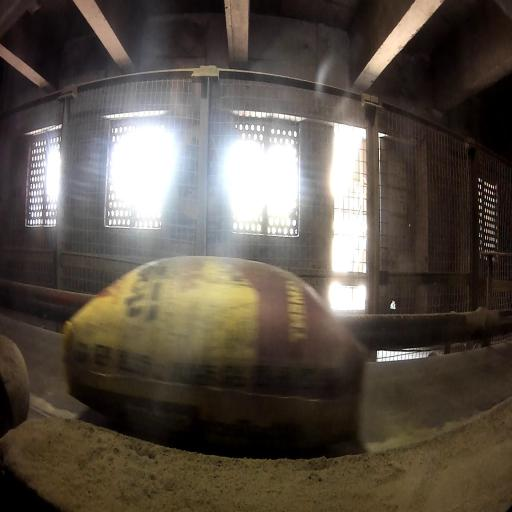c-belt-sack-count: (63, 256, 366, 445)
